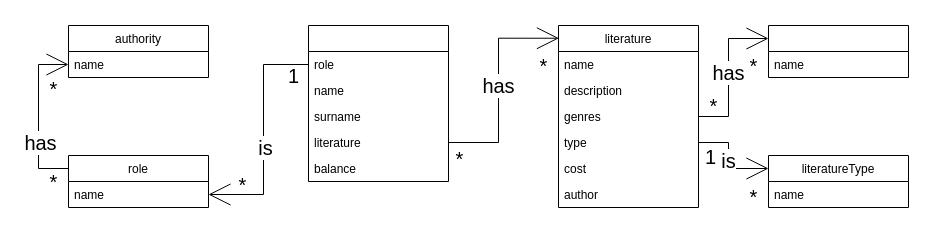
This 926x235 diagram has some shape labels left out. The shapes that lost their labels are listed below. From the top down, each one's box as (x1, y1, x2, y2) in pixels, then its label:
(768, 24, 908, 78): genre
(308, 24, 448, 182): user
